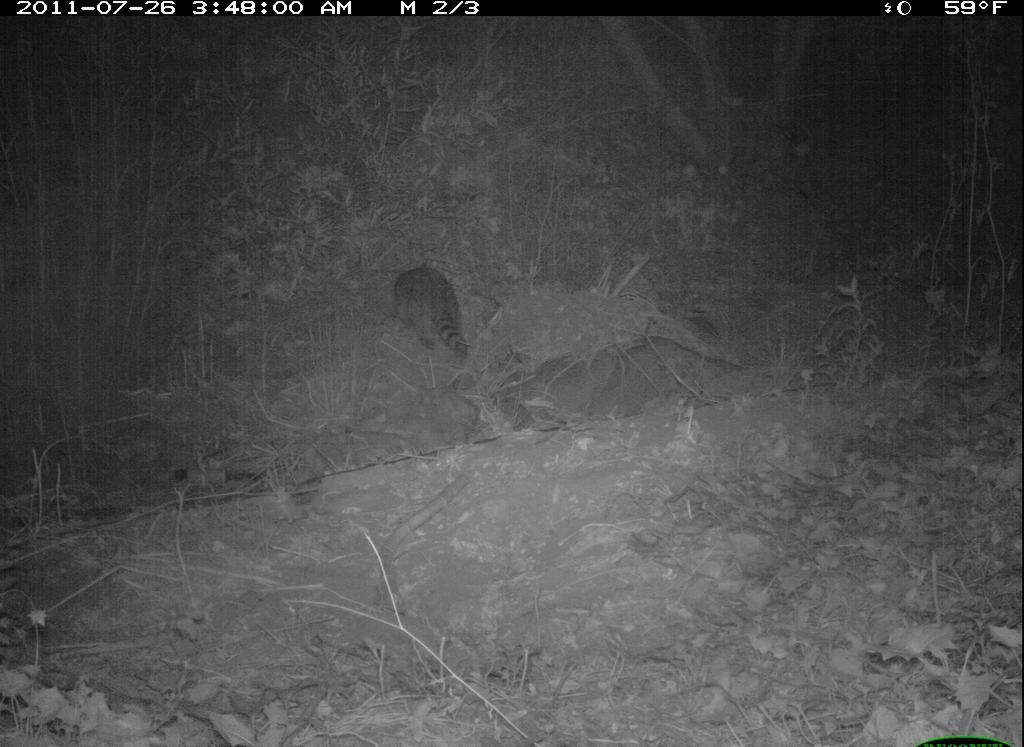raccoon: (388, 263, 475, 372)
